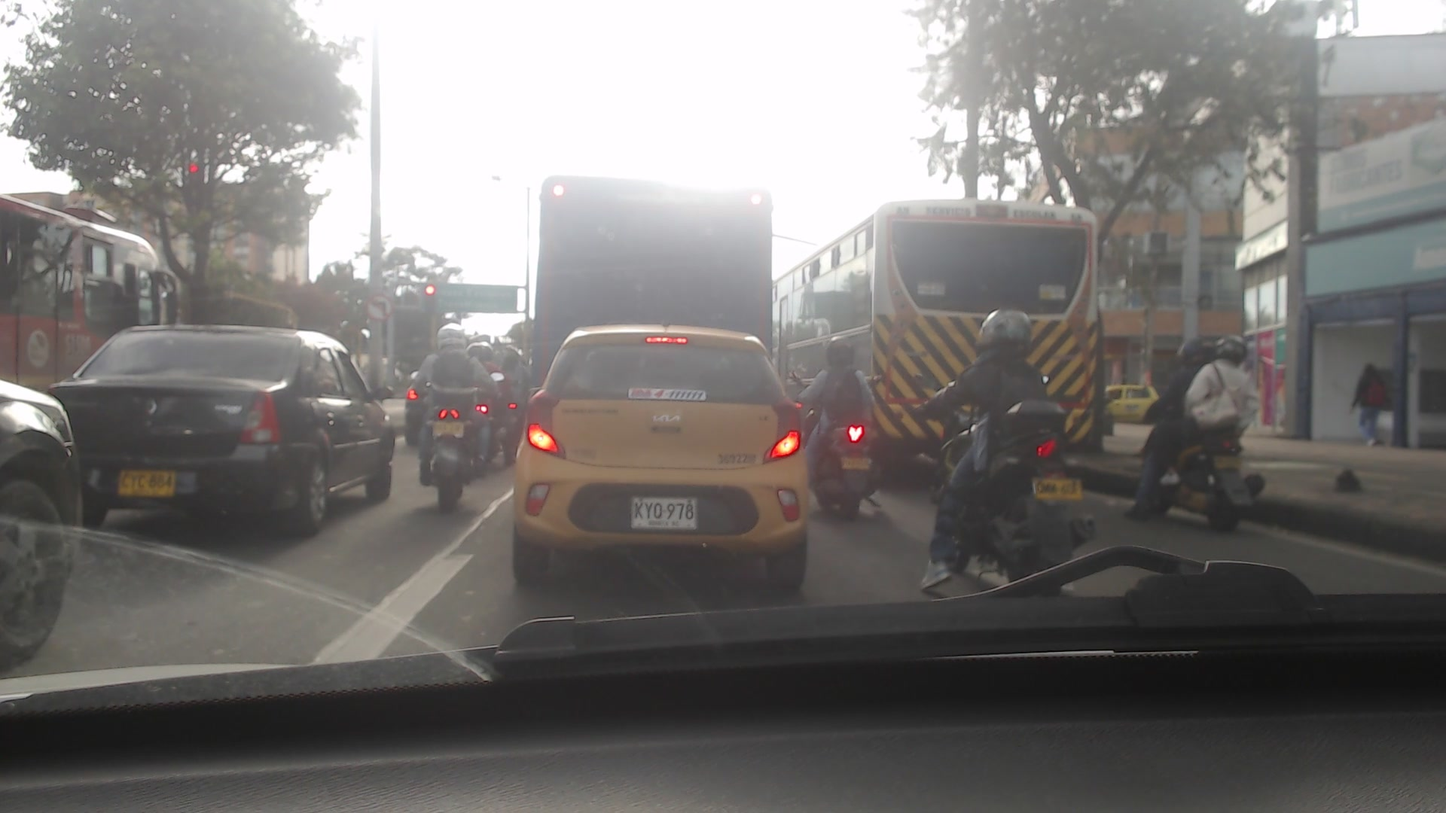bus: (757, 199, 1103, 473)
car: (512, 323, 812, 592), (42, 320, 407, 517)
motorcycle: (913, 425, 1080, 590), (1121, 418, 1259, 532), (798, 409, 883, 521), (410, 391, 484, 503)
person: (935, 307, 1072, 496), (1136, 339, 1214, 465), (795, 336, 888, 436), (1182, 336, 1253, 465), (416, 322, 492, 438), (452, 336, 504, 424), (1350, 360, 1395, 452)
truck: (529, 172, 777, 338)
